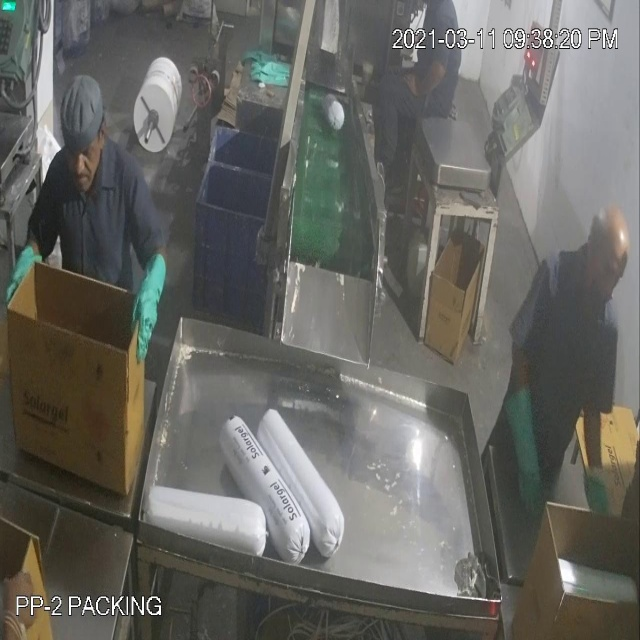Guantes: (497, 371, 553, 528), (125, 247, 173, 365)
Sin_guantes: (398, 52, 451, 104)
